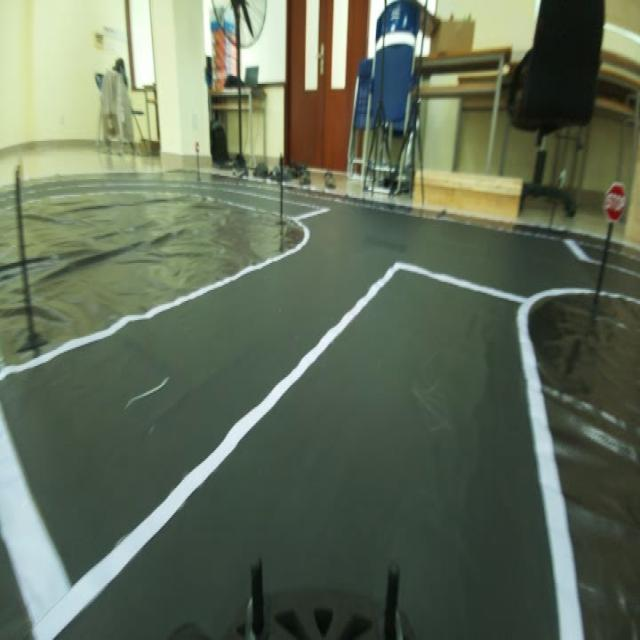stop: (600, 159, 631, 235)
